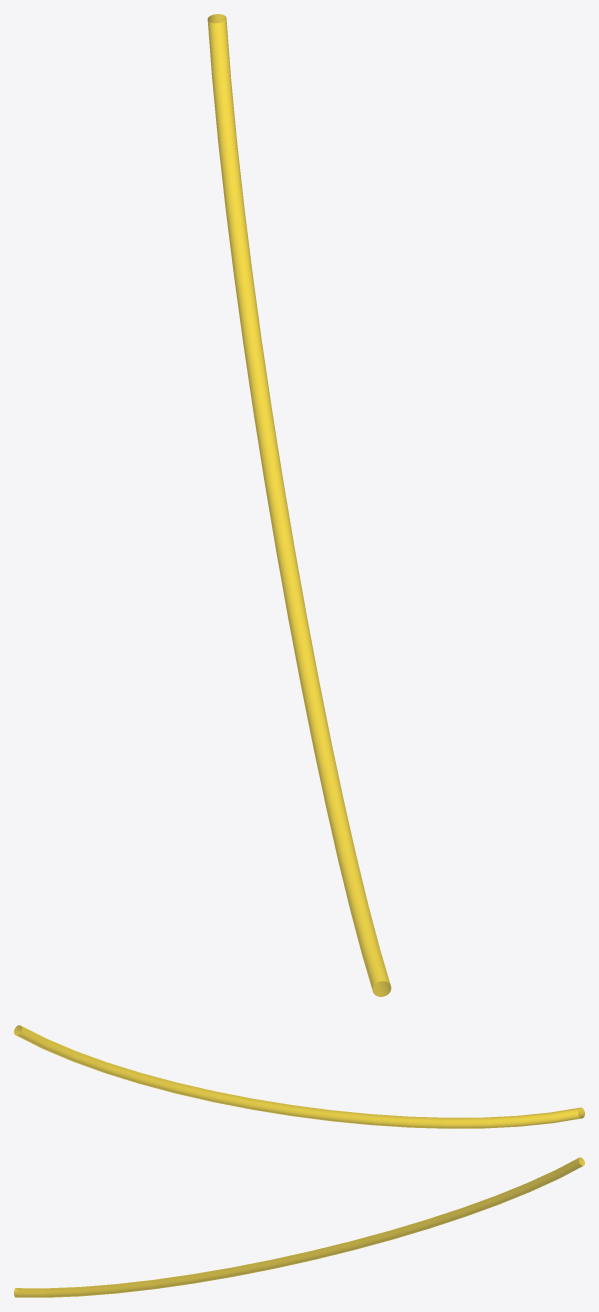
The model's file is Event_75125125_track_14.fbx.
3 renders of one model, top to bottom at view 1: azimuth 30°, elevation 25°; view 2: azimuth 150°, elevation 25°; view 3: azimuth 270°, elevation 25°, orthographic. The views are drawn at different scales.
Visible parts, largest first — view 1: Model; view 2: Model; view 3: Model.
Part boxes in pixels (left/top/right/bottom): Model: left=207, top=14, right=391, bottom=996; Model: left=14, top=1025, right=584, bottom=1128; Model: left=14, top=1157, right=584, bottom=1297.
Size of the model in its own units: 1.01 by 1.1 by 2.4.
